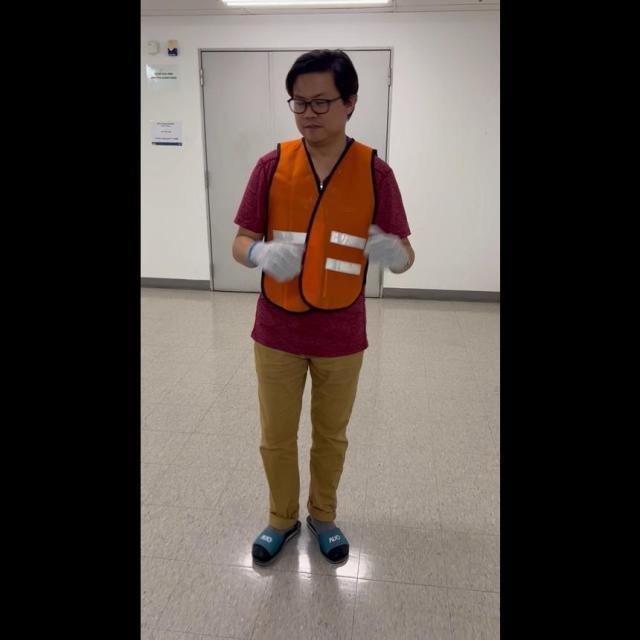gloved_hand: (248, 225, 306, 284), (358, 222, 406, 277)
